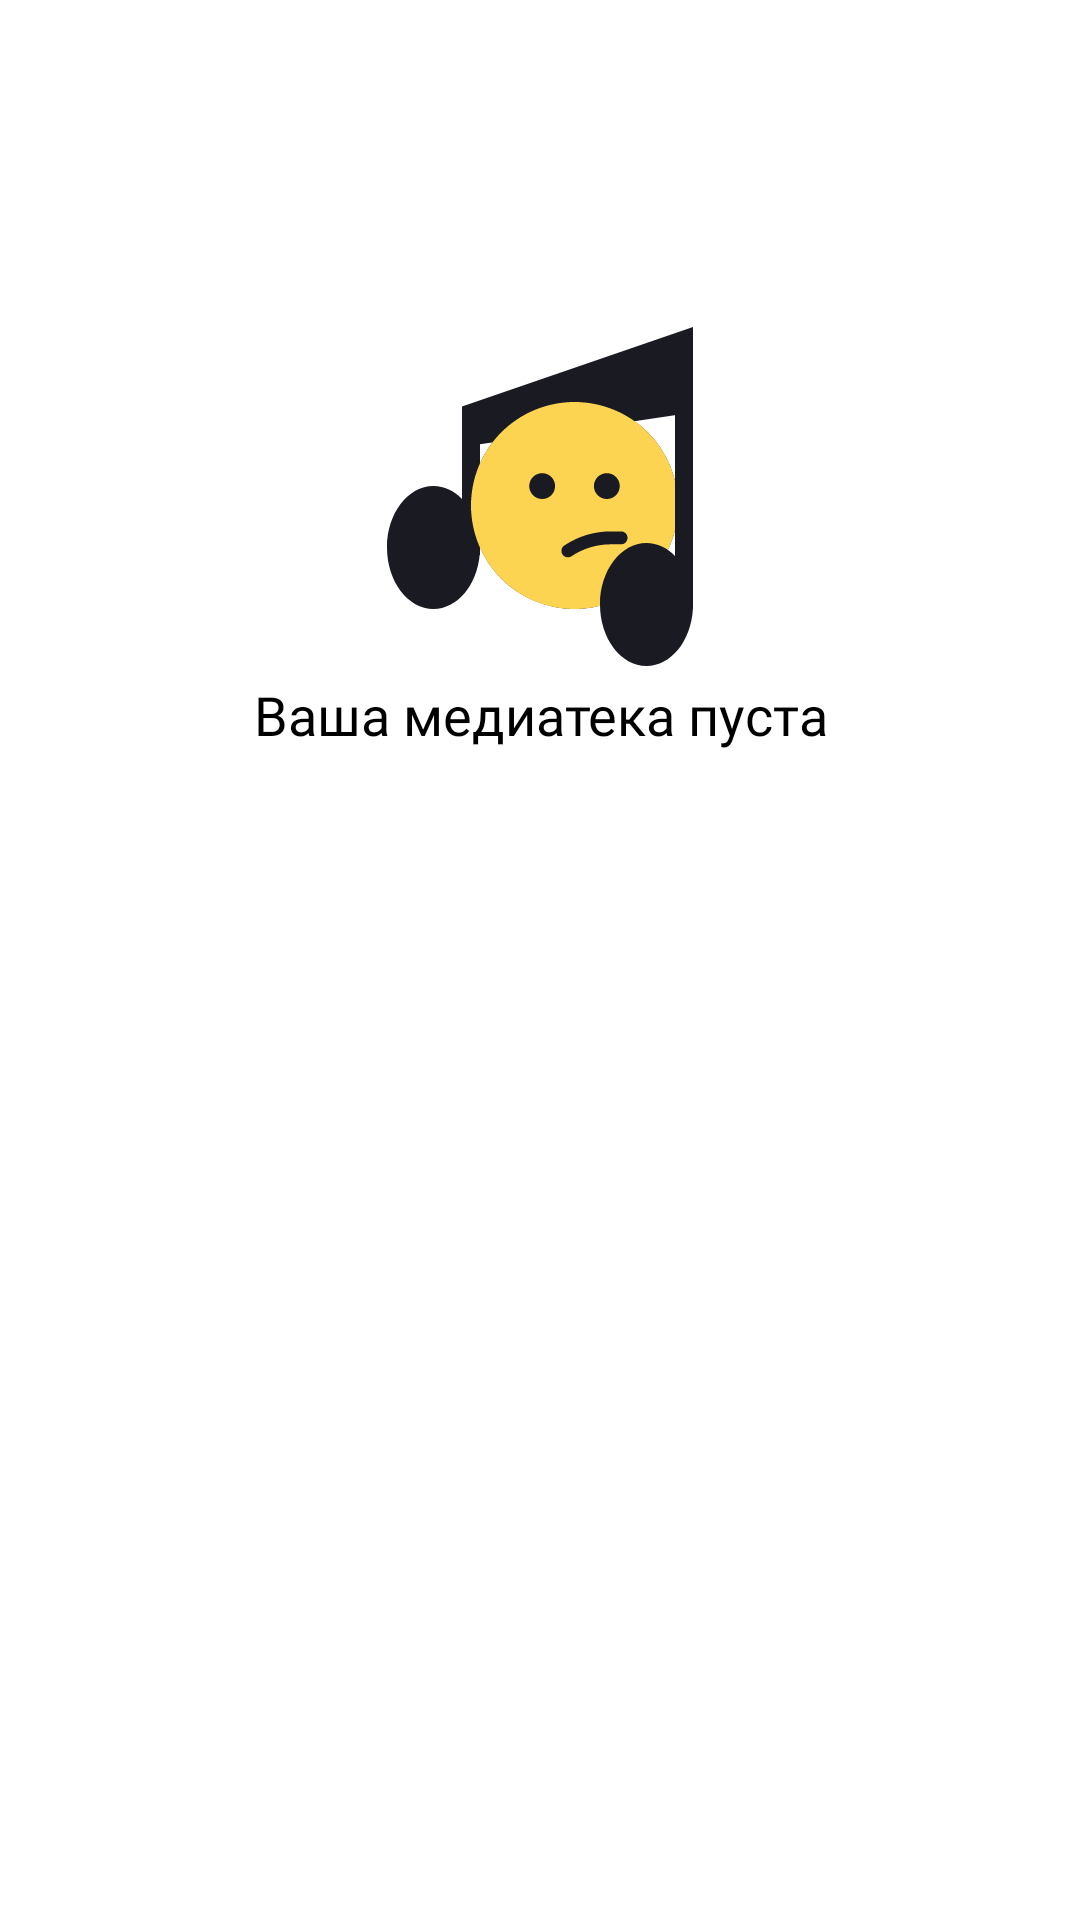

Named icons in this screenshot (1080w x 1920h) and their bounding boxes, (left=x1, top=y1, right=x2, bottom=y2):
not found: (left=387, top=327, right=693, bottom=666)
